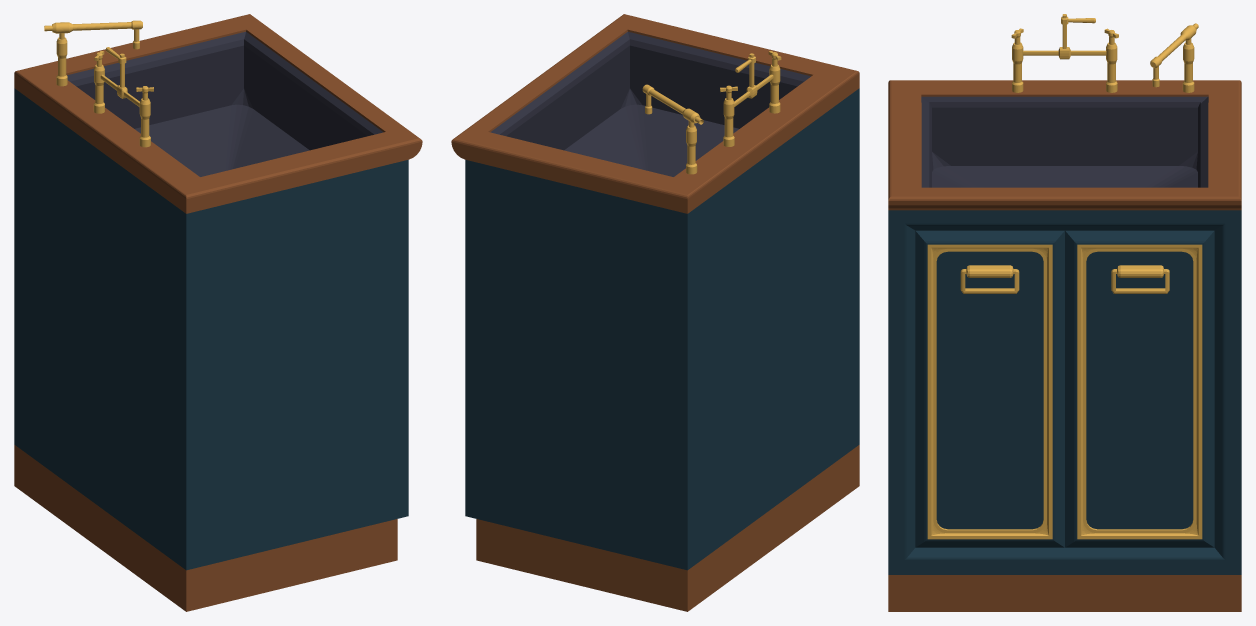
Rendered from KitchenModule_Sink.fbx.
3 views of the same model, side by side, from view 1: azimuth 30°, elevation 25°; view 2: azimuth 150°, elevation 25°; view 3: azimuth 270°, elevation 25° (orthographic). The views are drawn at different scales.
Parts seen in each view (by area): view 1: KitchenSink.001, Faucet; view 2: KitchenSink.001, Faucet; view 3: KitchenSink.001, Faucet, Handle.009, Handle.008.
Boxes of the visible parts, bbox=[...] form: KitchenSink.001: bbox=[14, 14, 422, 611]; Faucet: bbox=[44, 20, 153, 147]; KitchenSink.001: bbox=[451, 14, 859, 611]; Faucet: bbox=[642, 51, 781, 174]; KitchenSink.001: bbox=[888, 80, 1241, 611]; Faucet: bbox=[1011, 14, 1198, 92]; Handle.009: bbox=[960, 265, 1019, 293]; Handle.008: bbox=[1111, 265, 1169, 293].
Bounding box in the file's own units: 119 × 235 × 150.
